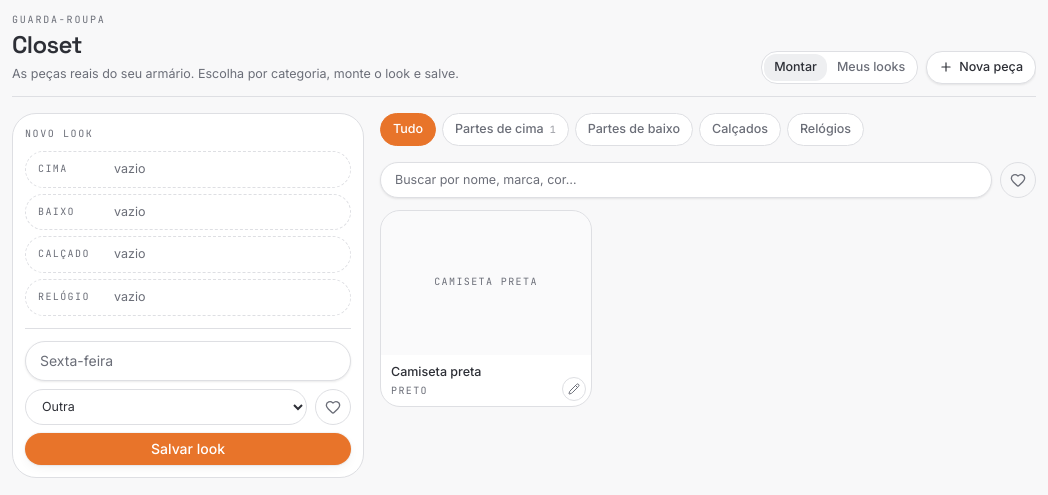
Test: the wardrobe pane › distinguishes an empty wardrobe from a filter that matched nothing
This screenshot has width=1048, height=495.
Expected: the button "Camiseta preta Camiseta preta preto" is shown, top-left (380, 210), bottom-right (592, 407)
In the field named "Buscar peças": x=686, y=180 top-left (380, 162), bottom-right (992, 198), type "jaqueta"
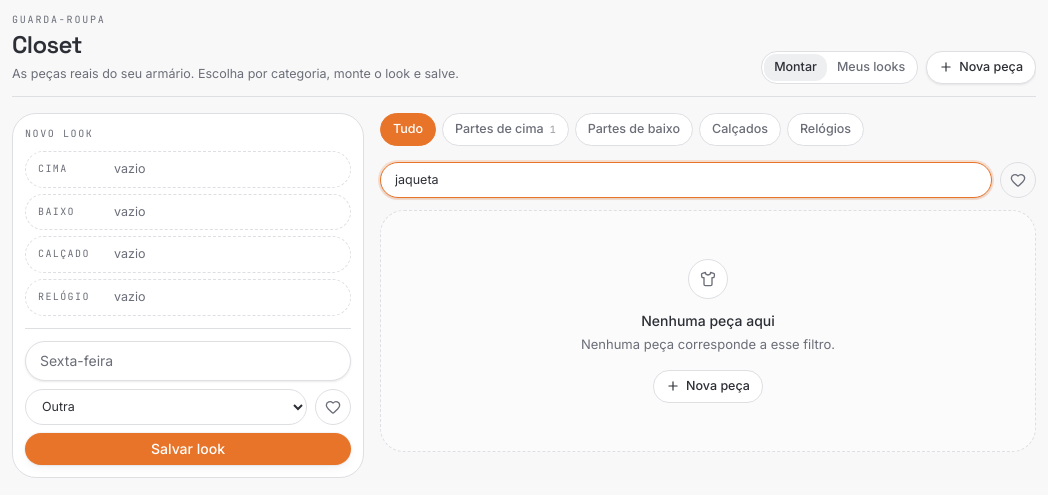
Expected: the text "Nenhuma peça aqui" is shown, top-left (641, 312), bottom-right (775, 328)
